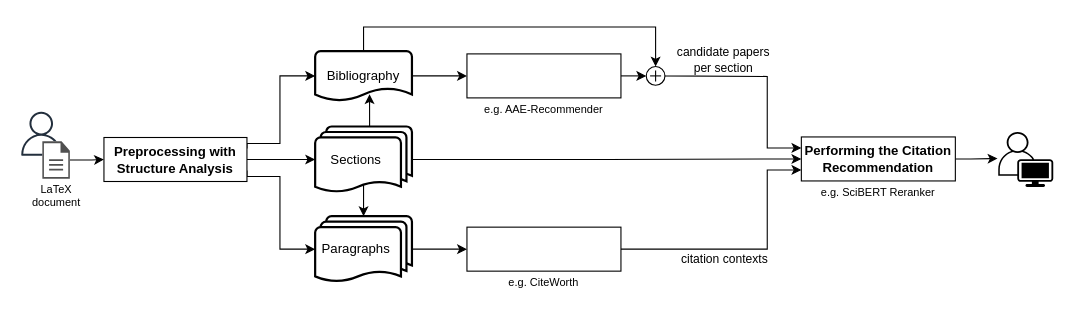
This 1071x312 diagram has some shape labels left out. Each missing label, with the box of its shape:
Creating a Pool of Candidate Papers: (466, 53, 621, 98)
Identification of Citation Contexts: (466, 226, 621, 271)
